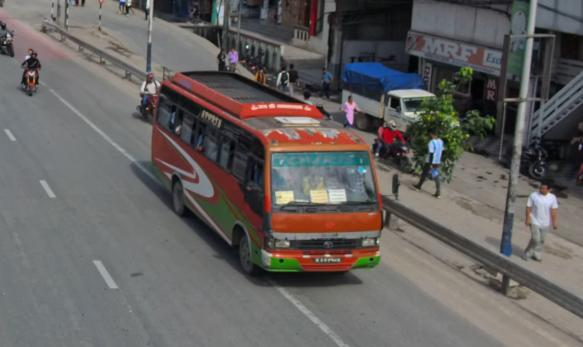bus: (149, 66, 383, 275)
transport_vehicle: (339, 62, 462, 150)
